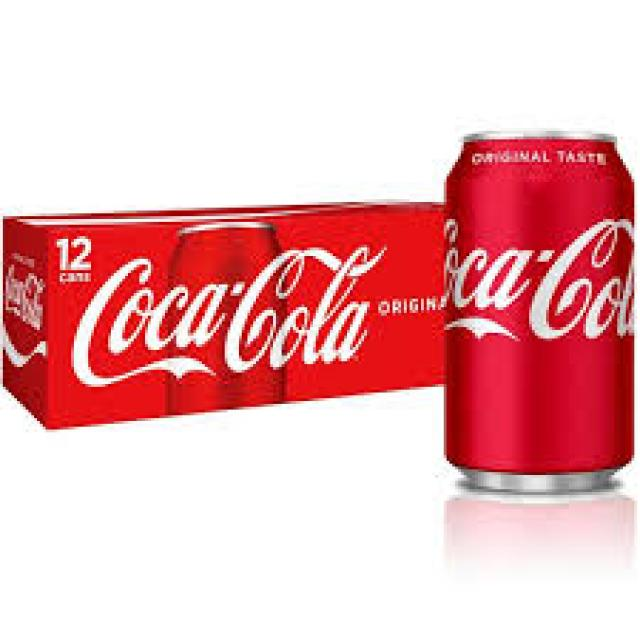Cans: (432, 122, 640, 498)
